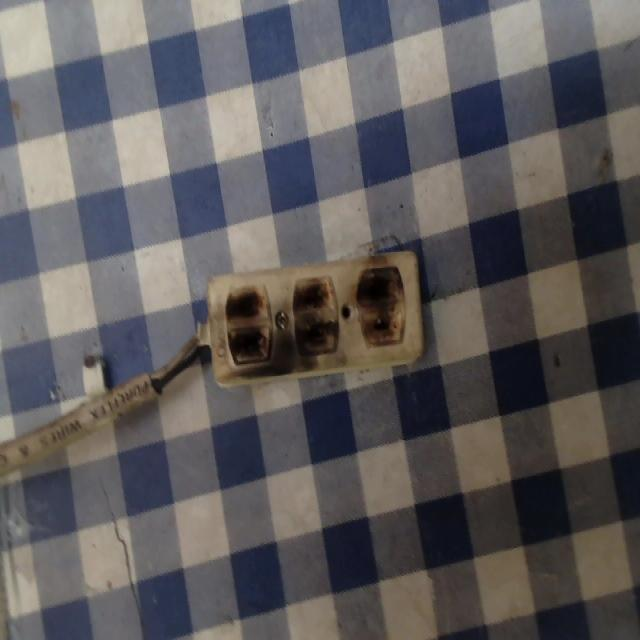-: (223, 282, 274, 369), (352, 264, 405, 347), (290, 274, 341, 358)
